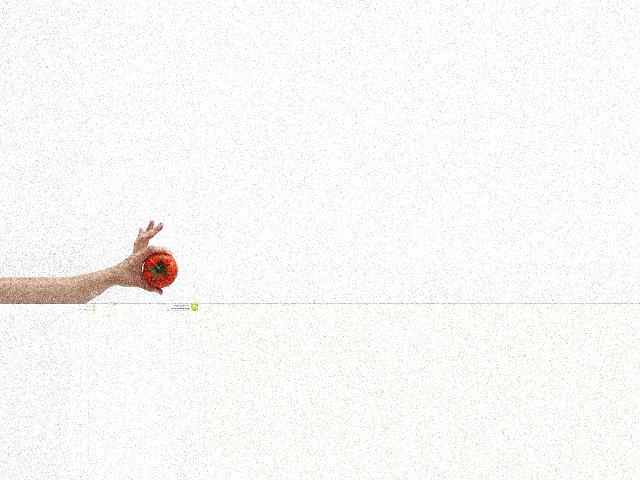tomato: (142, 253, 177, 288)
